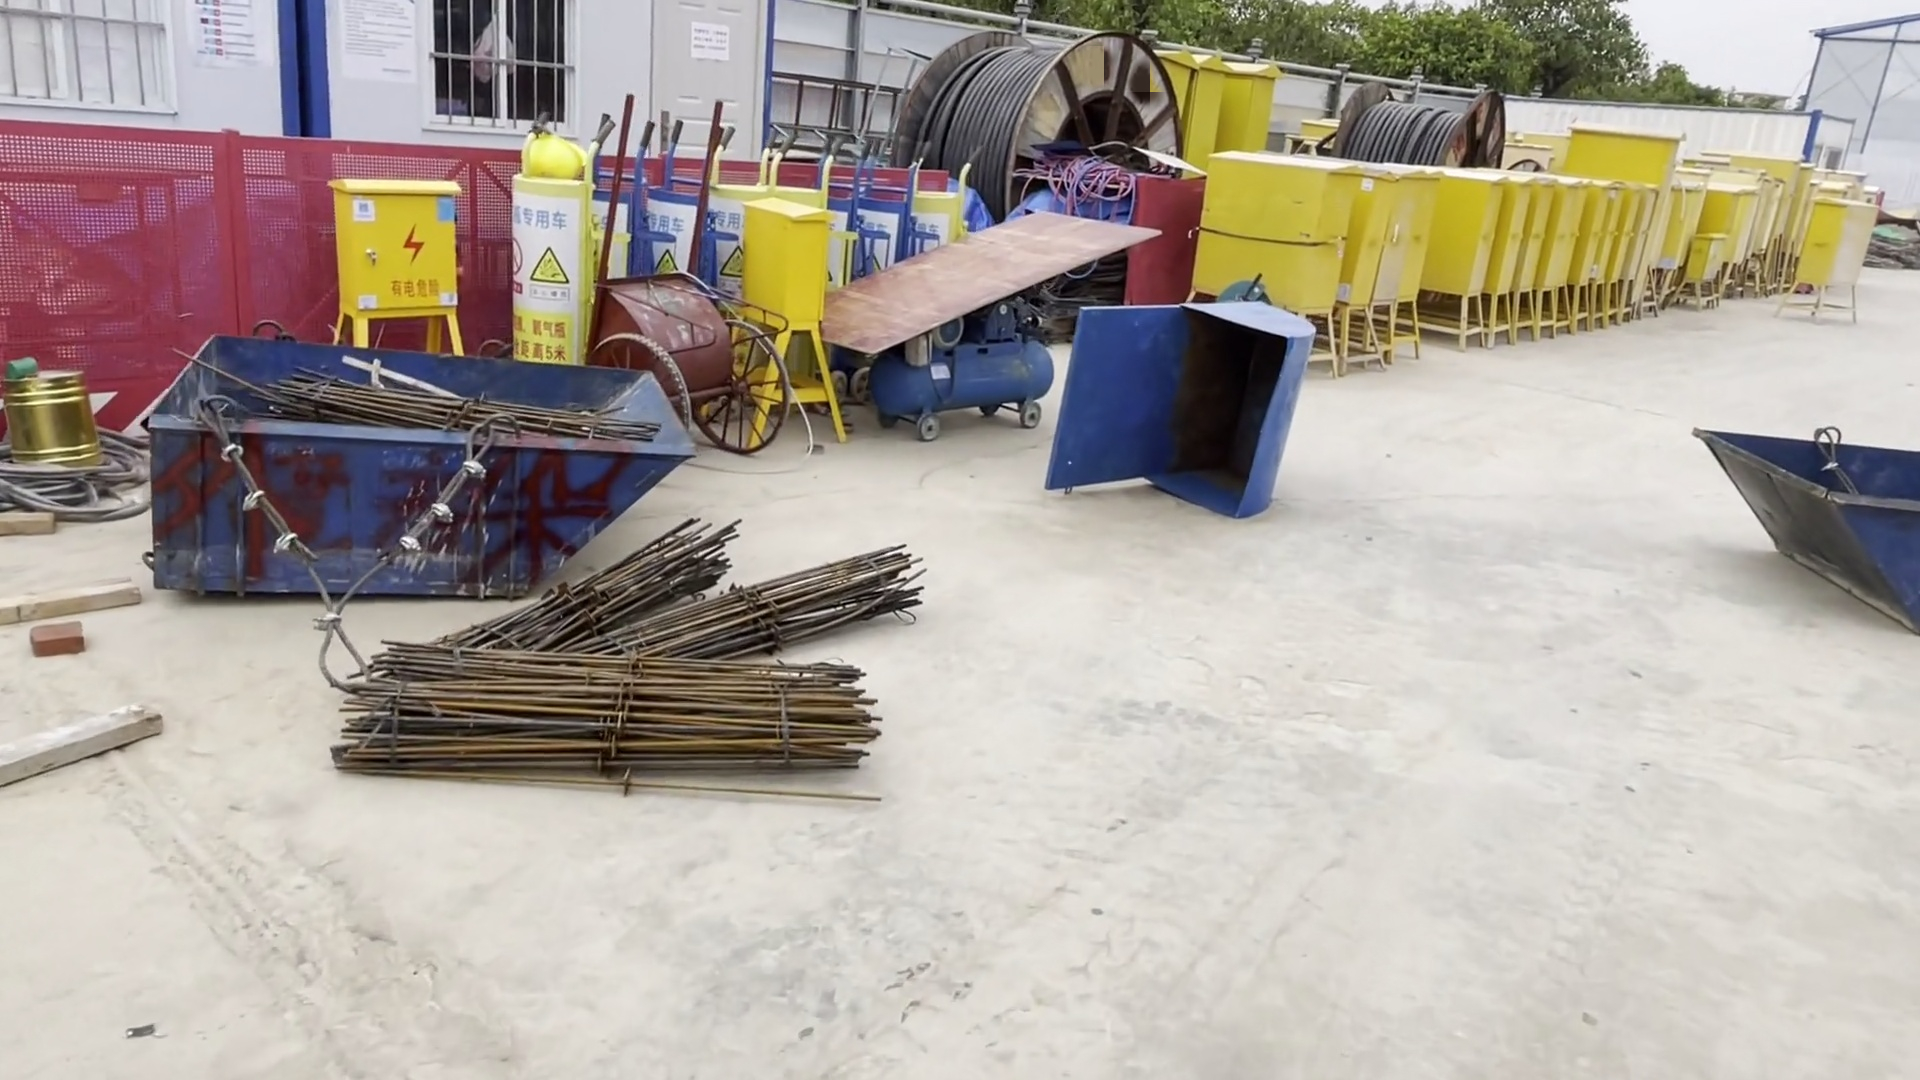ebox: (738, 208, 853, 446), (1193, 160, 1357, 301), (345, 178, 456, 339), (1774, 190, 1869, 319), (1423, 178, 1495, 345), (1559, 127, 1691, 179), (1222, 57, 1279, 156), (1188, 47, 1234, 160), (1673, 232, 1731, 311)
handcart: (605, 80, 782, 452)
hopper: (135, 363, 674, 622), (1675, 404, 1920, 622)
slogan: (509, 208, 579, 319)
